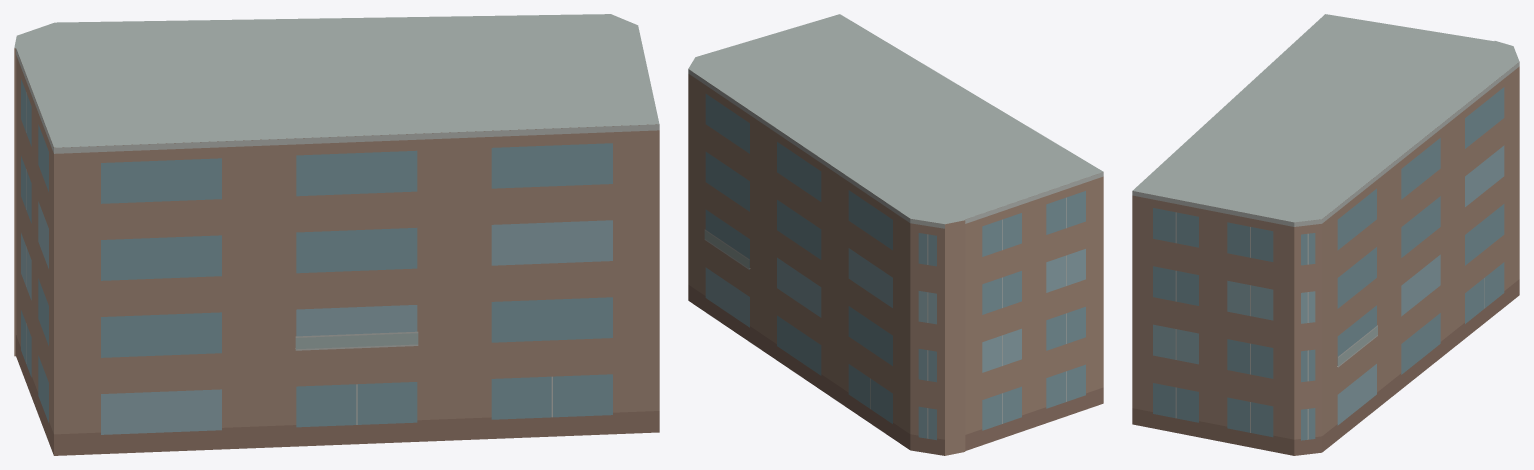
File: survey-upis-32793470.glb
3 renders of one model, left to right at view 1: azimuth 30°, elevation 25°; view 2: azimuth 150°, elevation 25°; view 3: azimuth 270°, elevation 25°, orthographic. The views are drawn at different scales.
Visible parts, largest first — view 1: survey-upis-32793470.tmp; view 2: survey-upis-32793470.tmp; view 3: survey-upis-32793470.tmp.
Boxes of the visible parts, x1,y1,x2,y2 form: survey-upis-32793470.tmp: [14, 14, 659, 455]; survey-upis-32793470.tmp: [688, 14, 1103, 455]; survey-upis-32793470.tmp: [1132, 14, 1519, 455].
Size of the model in its own units: 23.65 by 12.35 by 18.57.
